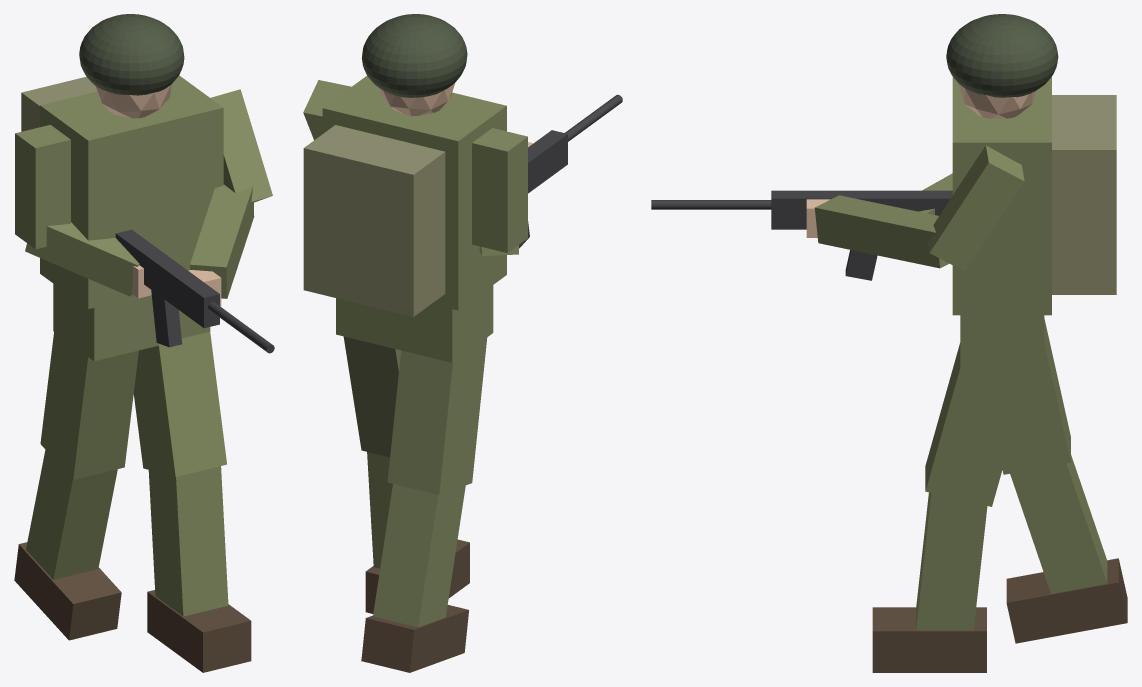
Rendered from soldier.glb.
3 renders of one model, left to right at view 1: azimuth 30°, elevation 25°; view 2: azimuth 150°, elevation 25°; view 3: azimuth 270°, elevation 25°, orthographic. The views are drawn at different scales.
Visible parts, largest first — view 1: Soldier; view 2: Soldier; view 3: Soldier.
Boxes of the visible parts, left/top/right/bottom form: Soldier: left=14, top=14, right=274, bottom=672; Soldier: left=303, top=14, right=622, bottom=672; Soldier: left=651, top=14, right=1127, bottom=672.
Bounding box in the file's own units: 0.6561 × 1.81 × 1.25.
